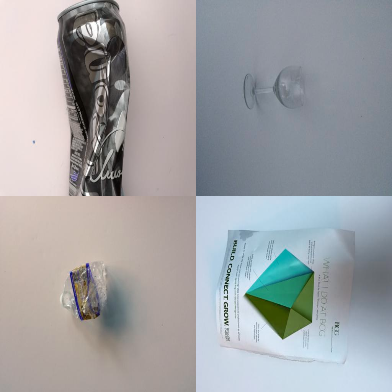glass: (242, 66, 308, 110)
metal: (56, 1, 130, 196)
paper: (216, 227, 355, 364)
plastic: (61, 263, 109, 320)
